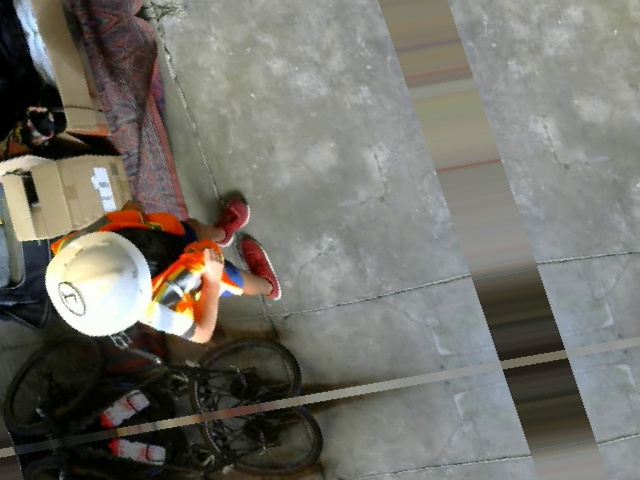one: (54, 279, 86, 318)
